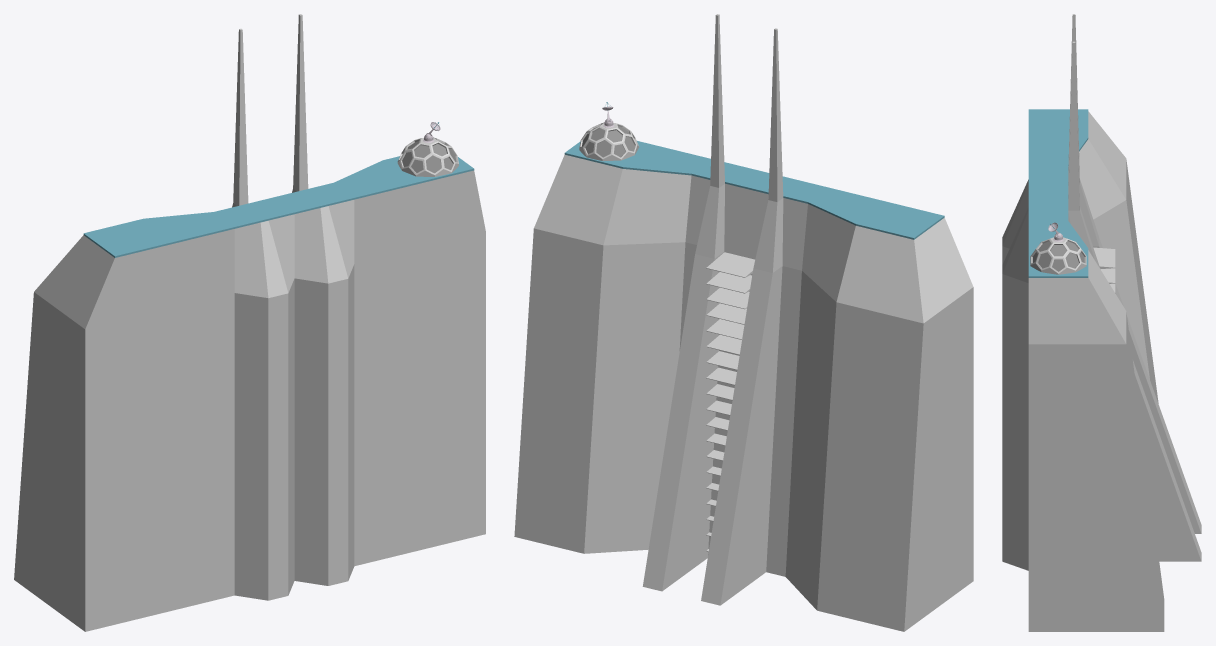
File: dam.fbx
The picture shows the model from 3 angles, left to right: view 1: azimuth 30°, elevation 25°; view 2: azimuth 150°, elevation 25°; view 3: azimuth 270°, elevation 25°; orthographic projection. The views are drawn at different scales.
Parts seen in each view (by area): view 1: dam.001, control sphere; view 2: dam.001, sluices.001, control sphere; view 3: dam.001, control sphere, sluices.001.
Part boxes in pixels (x1=…): dam.001: x1=14, y1=14, x2=485, y2=631; control sphere: x1=397, y1=137, x2=458, y2=176; dam.001: x1=514, y1=14, x2=973, y2=631; sluices.001: x1=706, y1=252, x2=754, y2=551; control sphere: x1=579, y1=122, x2=639, y2=161; dam.001: x1=1002, y1=14, x2=1201, y2=631; control sphere: x1=1030, y1=237, x2=1086, y2=274; sluices.001: x1=1093, y1=247, x2=1115, y2=292.
Size of the model in its own units: 28722 by 12991 by 37815.
